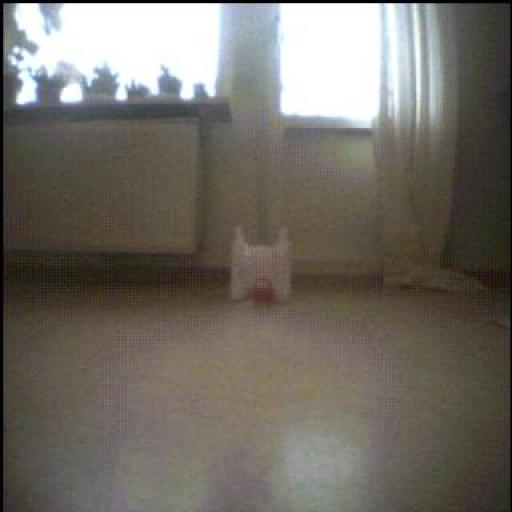Basket: (254, 280, 275, 304)
